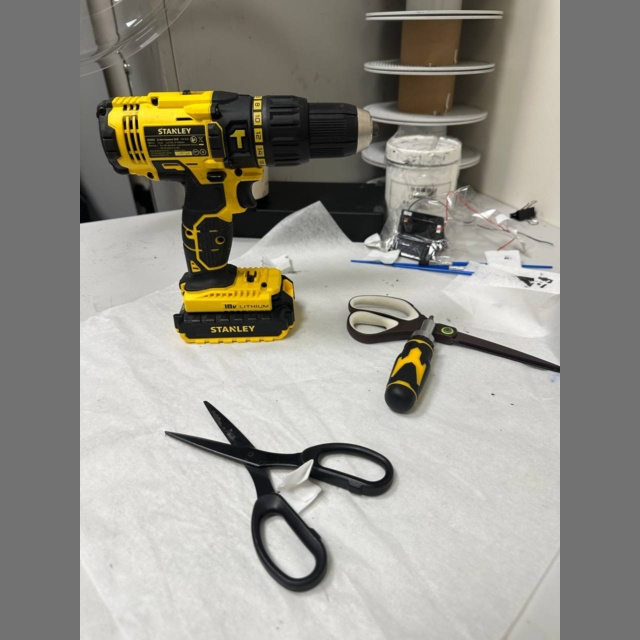drill: (96, 91, 372, 342)
scissor: (165, 401, 394, 592), (349, 295, 560, 373)
screwdriver: (384, 316, 435, 414)
